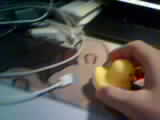duck: (90, 54, 130, 99)
